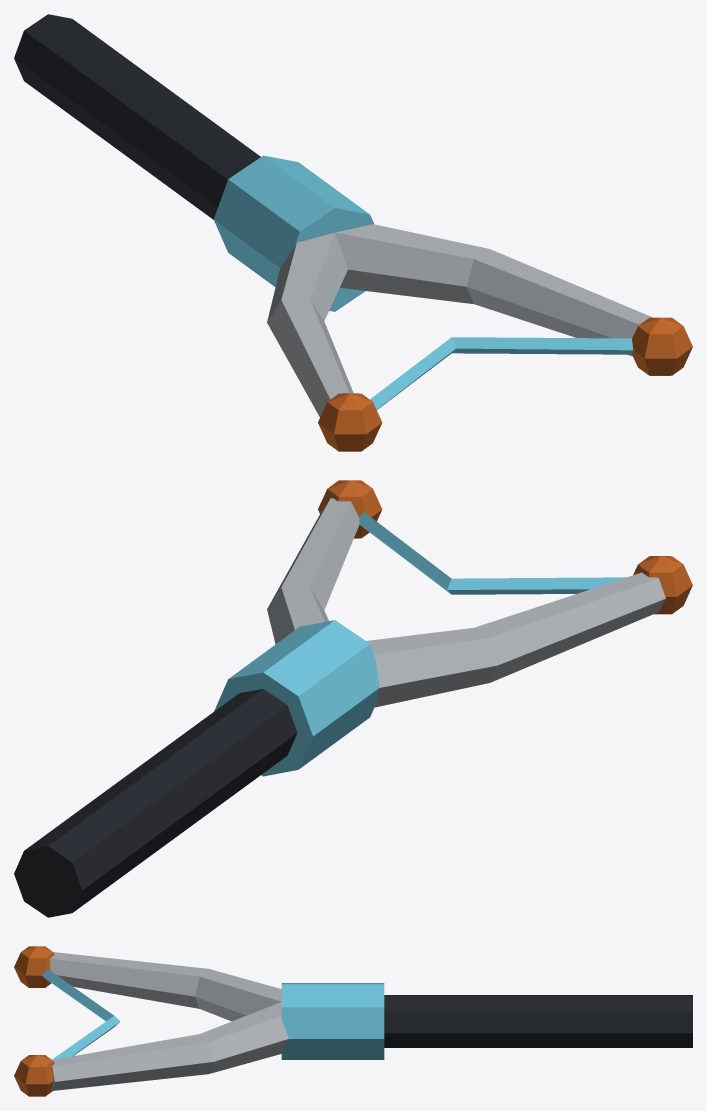
Rendered from energy-slingshot.glb.
The picture shows the model from 3 angles, top to bottom: view 1: azimuth 30°, elevation 25°; view 2: azimuth 150°, elevation 25°; view 3: azimuth 270°, elevation 25°; orthographic projection. The views are drawn at different scales.
Visible parts, largest first — view 1: m; view 2: m; view 3: m.
Boxes of the visible parts, box(x1,y1,x2,y2) form: m: box(14, 14, 692, 451); m: box(14, 480, 692, 917); m: box(14, 946, 692, 1096).
Size of the model in its own units: 0.1313 by 0.0364 by 0.3.
